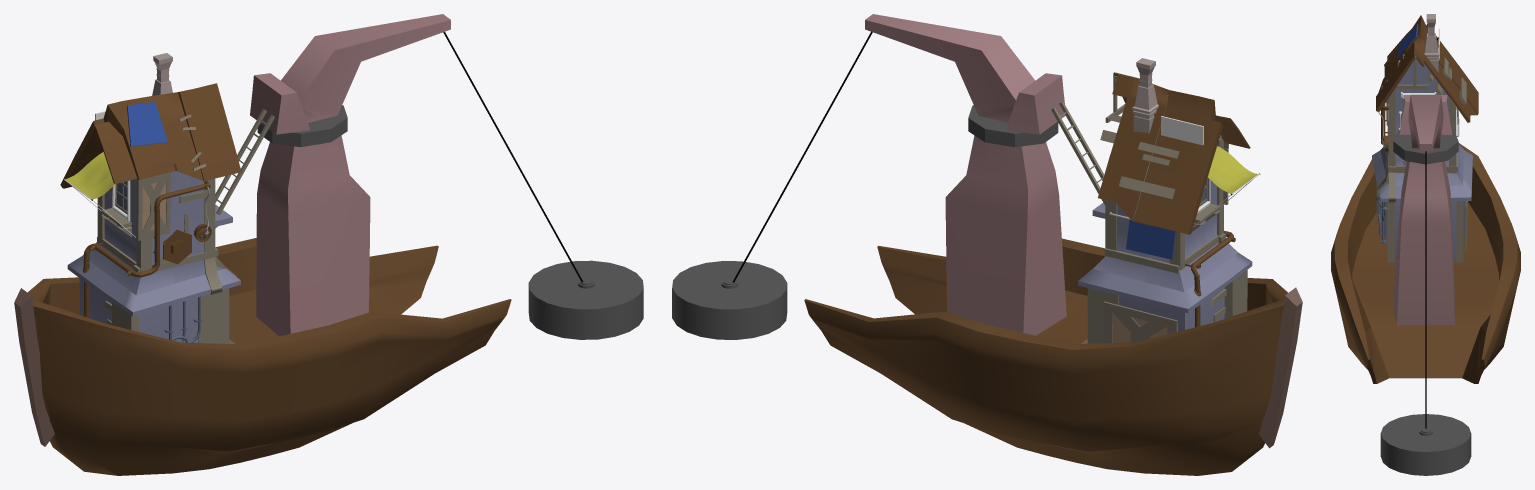
File: boat.fbx
3 renders of one model, left to right at view 1: azimuth 30°, elevation 25°; view 2: azimuth 150°, elevation 25°; view 3: azimuth 270°, elevation 25°, orthographic. The views are drawn at different scales.
Visible parts, largest first — view 1: polySurface1, pasted__pCube2, polySurface3, Magnet, polySurface2, pCube13, pCylinder1, pasted__pCube14, pCube17, pasted__pasted__pCylinder7, polySurface16, pCube8 (+4 smaller); view 2: polySurface1, pasted__pCube2, polySurface3, Magnet, polySurface2, pasted__pCube13, pasted__pasted__pCube14 (×2), pCylinder1, pasted__pCube17, pCube16, polySurface16, pCube8 (+3 smaller); view 3: polySurface1, pasted__pCube2, polySurface3, Magnet, pCylinder1, pasted__pCube14 (×2), pasted__pasted__pCube14 (×2), pCube16, pCube14, Rope, pCube17.
Part boxes in pixels (<box>): polySurface1: <box>27,238,511,475</box>; pasted__pCube2: <box>250,14,450,335</box>; polySurface3: <box>60,83,241,342</box>; Magnet: <box>528,260,643,339</box>; polySurface2: <box>14,288,54,446</box>; pCube13: <box>137,172,170,240</box>; pCylinder1: <box>257,105,347,146</box>; pasted__pCube14: <box>198,288,229,343</box>; pCube17: <box>127,102,167,146</box>; pasted__pasted__pCylinder7: <box>83,180,210,277</box>; polySurface16: <box>65,152,114,199</box>; pCube8: <box>215,109,274,215</box>; polySurface1: <box>804,238,1287,475</box>; pasted__pCube2: <box>865,14,1066,335</box>; polySurface3: <box>1077,72,1252,331</box>; Magnet: <box>672,261,787,339</box>; polySurface2: <box>1259,287,1302,448</box>; pasted__pCube13: <box>1103,301,1177,343</box>; pasted__pasted__pCube14 (×2): <box>1087,270,1247,343</box>; pCylinder1: <box>968,105,1058,147</box>; pasted__pCube17: <box>1126,220,1175,259</box>; pCube16: <box>1132,58,1158,133</box>; polySurface16: <box>1207,146,1257,193</box>; pCube8: <box>1051,101,1105,205</box>; polySurface1: <box>1331,143,1520,383</box>; pasted__pCube2: <box>1393,94,1454,325</box>; polySurface3: <box>1372,15,1478,261</box>; Magnet: <box>1380,414,1471,475</box>; pCylinder1: <box>1393,129,1458,164</box>; pasted__pCube14 (×2): <box>1387,97,1456,262</box>; pasted__pasted__pCube14 (×2): <box>1388,172,1463,262</box>; pCube16: <box>1424,14,1439,72</box>; pCube14: <box>1388,89,1395,166</box>; Rope: <box>1425,151,1426,428</box>; pCube17: <box>1397,24,1418,59</box>.
Size of the model in its own units: 0.0517 by 0.0327 by 0.0176.
